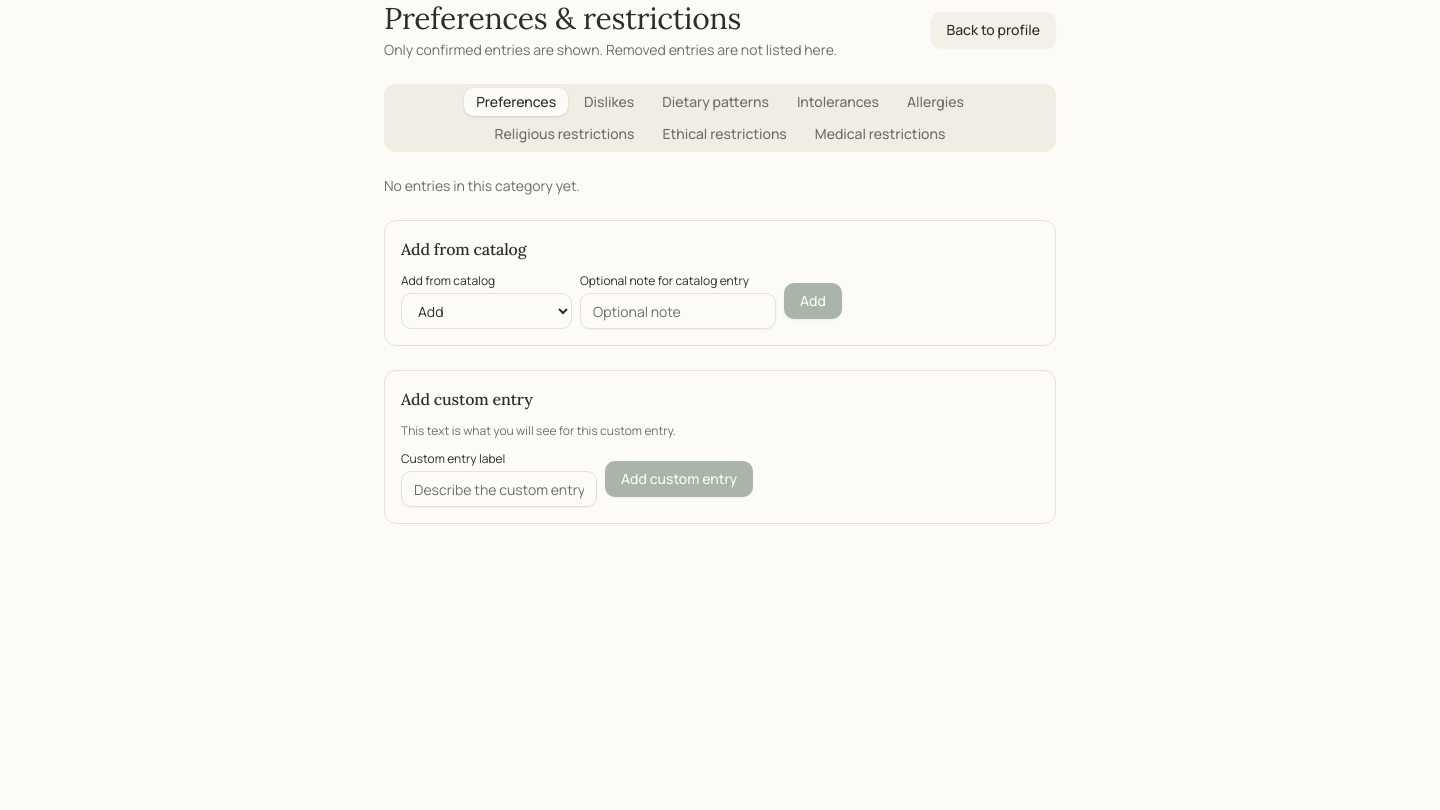
Test: ProfilePreferencesPage › cancelling the sensitive confirmation discards the pending add without mutating
Expected: the element with test id "profile-preferences" is shown, [384, 0, 1056, 524]
Click the tab with test id "profile-preferences-tab-MedicalRestriction". click: [880, 134]
box: [803, 120, 957, 148]
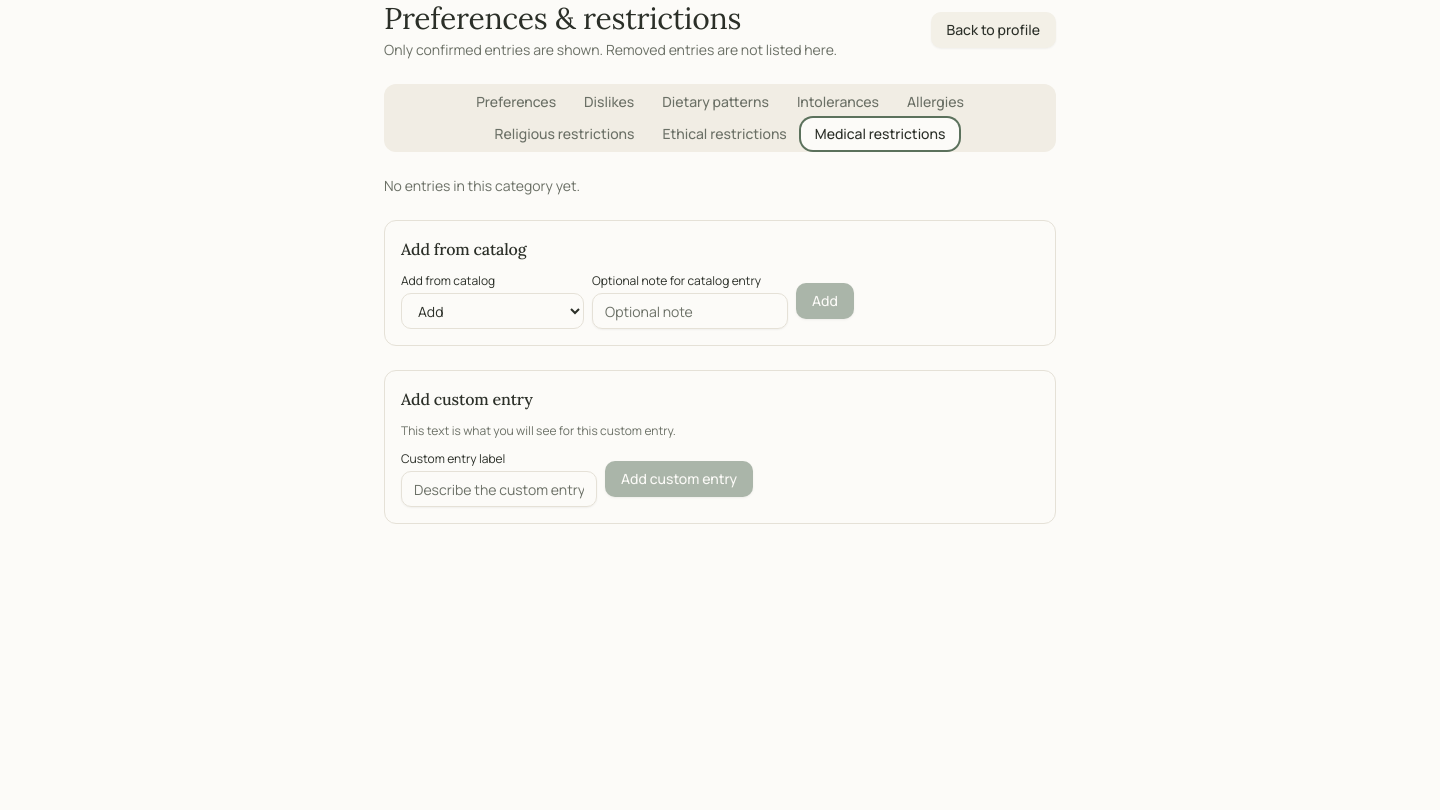
Select "Low-sodium diet" in the dropdown with test id "profile-preferences-catalog-select". click: [492, 311]
box: [401, 293, 584, 329]
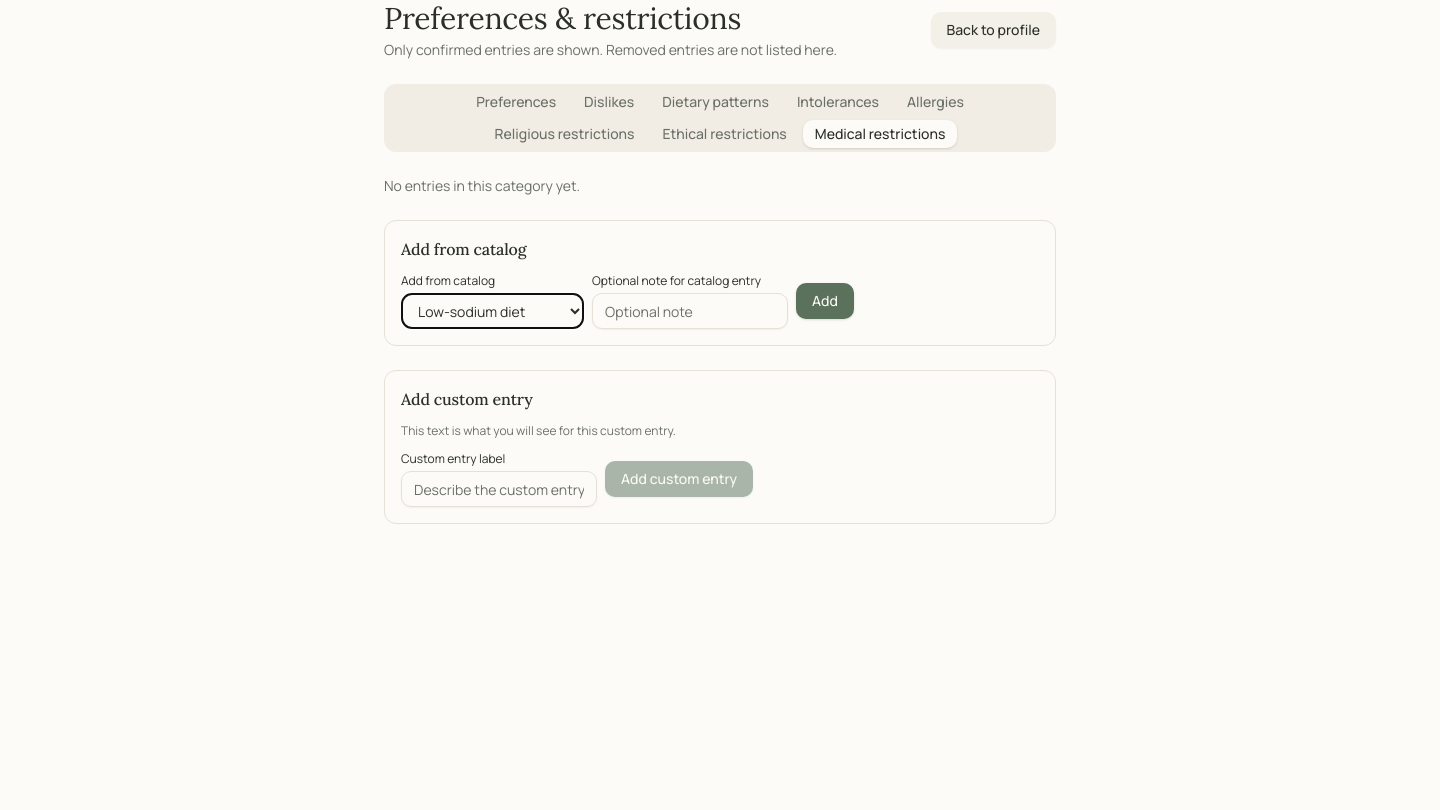
Click the button with test id "profile-preferences-catalog-submit". click: [825, 301]
box: [796, 283, 854, 319]
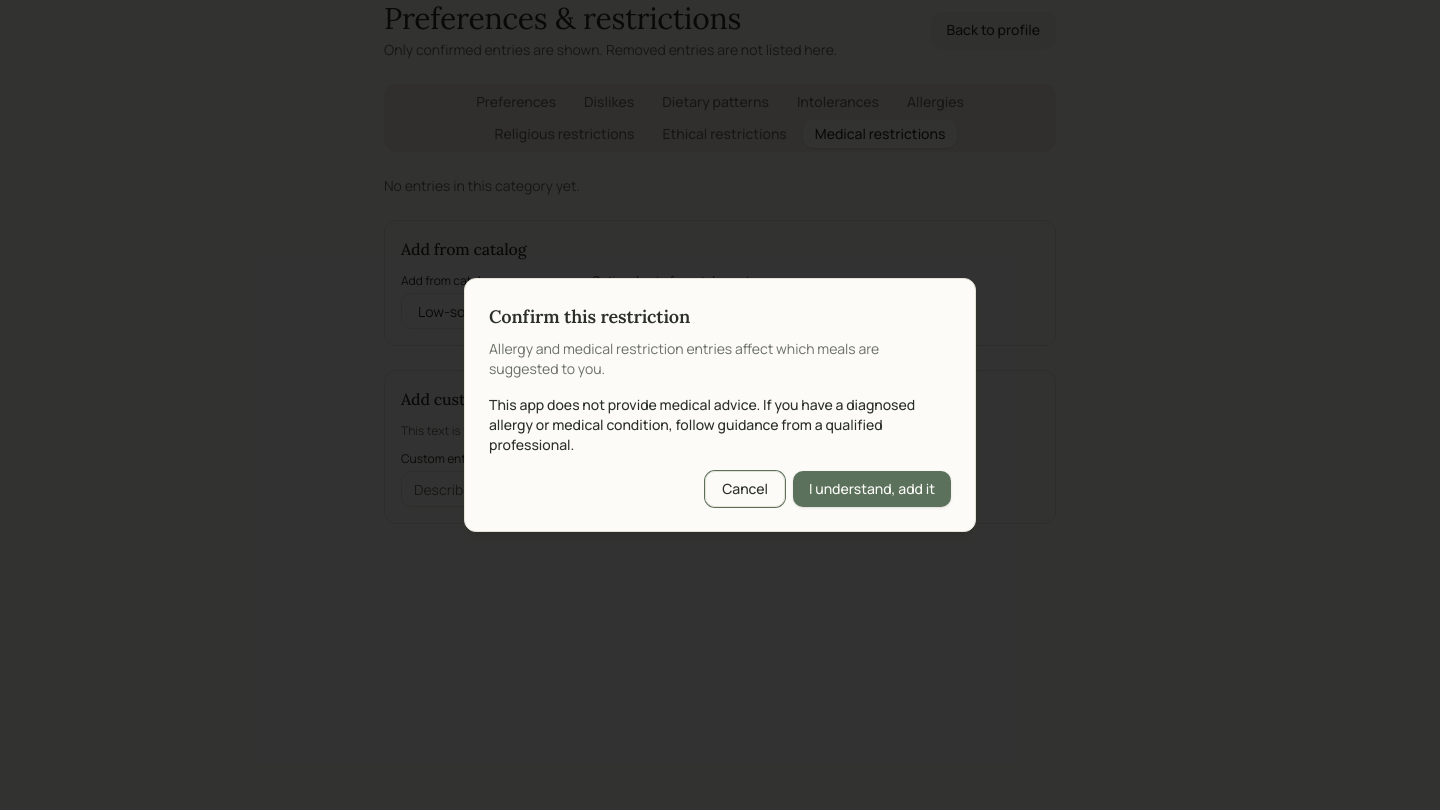
Result: the dialog with test id "profile-preferences-sensitive-confirm" is shown at [464, 278, 976, 532]
Click the button with test id "profile-preferences-sensitive-cancel". click: [745, 489]
box: [705, 471, 785, 507]
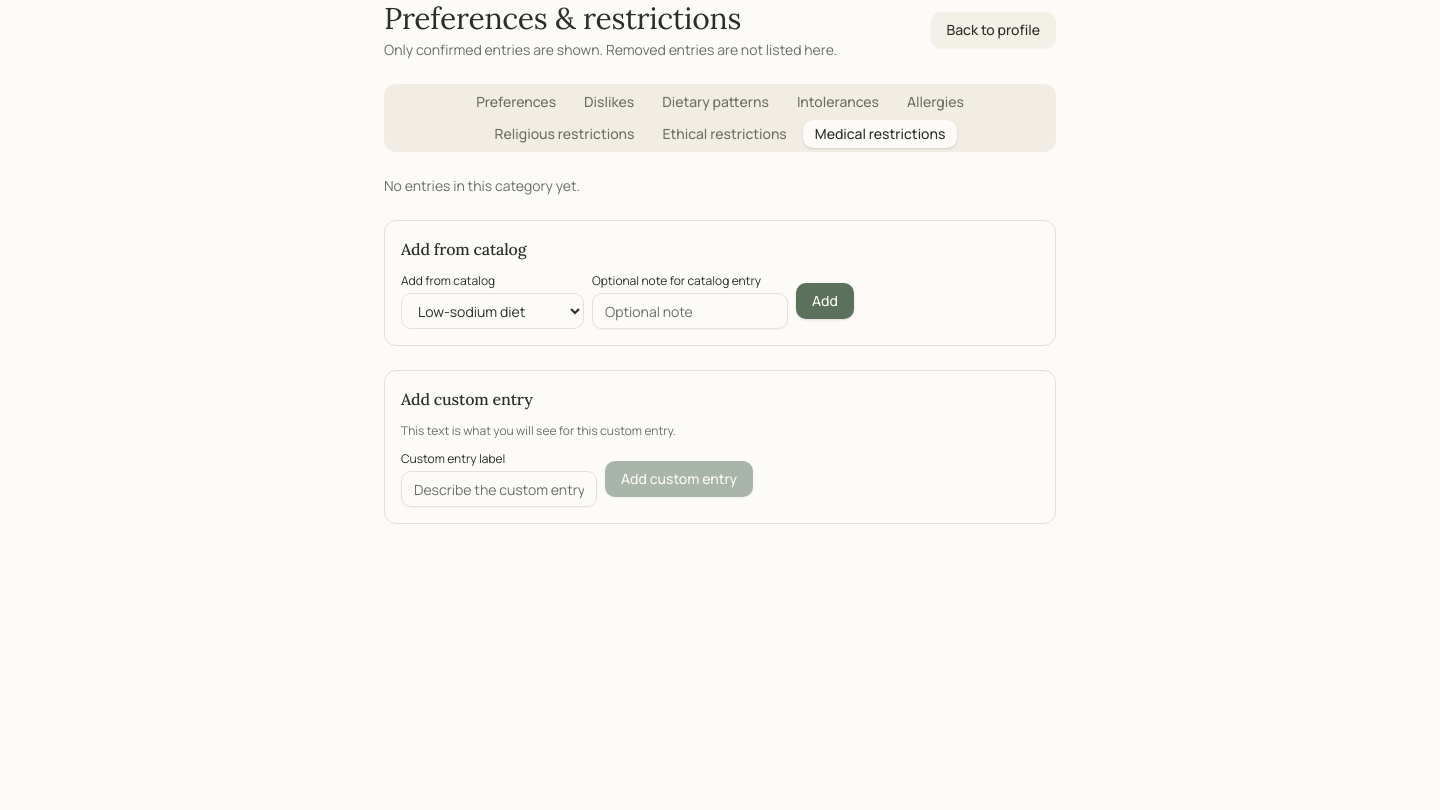
Result: the dialog with test id "profile-preferences-sensitive-confirm" is gone
